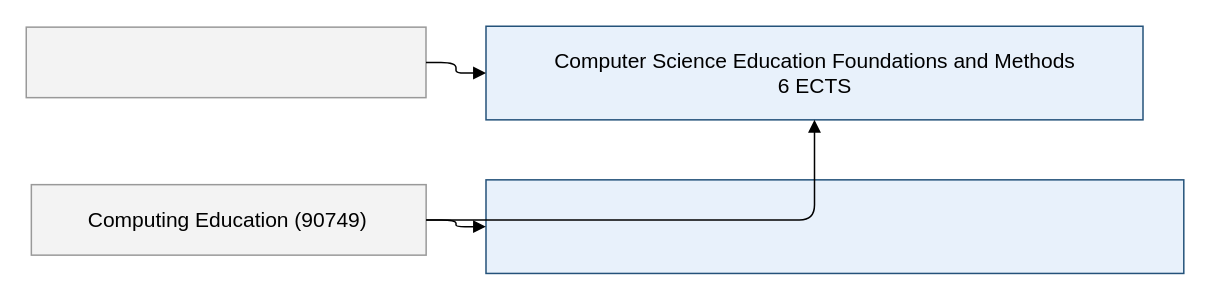
This 1211x300 diagram has some shape labels left out. Each missing label, with the centre of its shape:
"Laboratory of Making (81678)" belongs at point (225, 62).
"Programming and Software in Computer Science Education 3 ECTS" belongs at point (834, 225).
